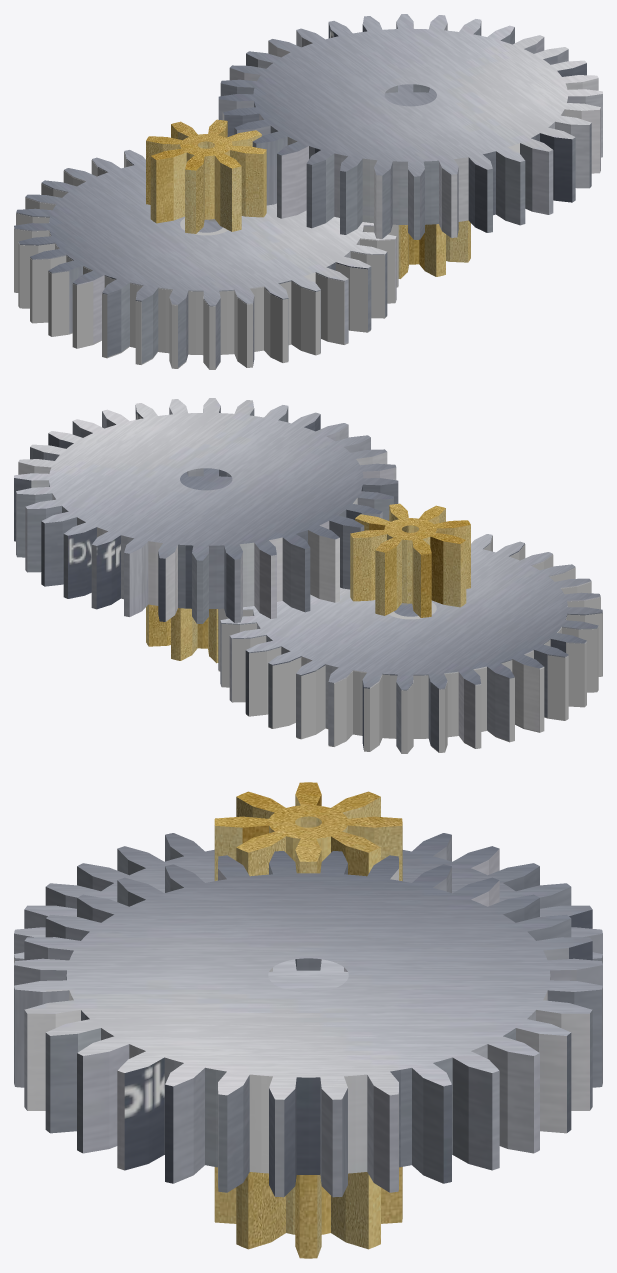
File: gears.obj
3 views of the same model, one above another, from view 1: azimuth 30°, elevation 25°; view 2: azimuth 150°, elevation 25°; view 3: azimuth 270°, elevation 25° (orthographic). The views are drawn at different scales.
Visible parts, largest first — view 1: Gear.004, Gear.003, Gear.001, Gear.005, Gear.002; view 2: Gear.004, Gear.003, Gear.001, Gear.005, Gear.002; view 3: Gear.004, Gear.003, Gear.005, Gear.002.
Part boxes in pixels (left/top/right/bottom): Gear.004: left=218, top=14, right=602, bottom=239; Gear.003: left=14, top=150, right=398, bottom=368; Gear.001: left=14, top=152, right=398, bottom=369; Gear.005: left=146, top=119, right=266, bottom=233; Gear.002: left=398, top=220, right=470, bottom=278; Gear.004: left=14, top=398, right=398, bottom=623; Gear.003: left=218, top=534, right=602, bottom=752; Gear.001: left=218, top=536, right=602, bottom=753; Gear.005: left=350, top=503, right=470, bottom=617; Gear.002: left=146, top=604, right=218, bottom=663; Gear.004: left=14, top=851, right=602, bottom=1197; Gear.003: left=14, top=833, right=602, bottom=963; Gear.005: left=214, top=782, right=402, bottom=881; Gear.002: left=214, top=1167, right=402, bottom=1258.
Size of the model in its own units: 3.54 by 1 by 2.19.
